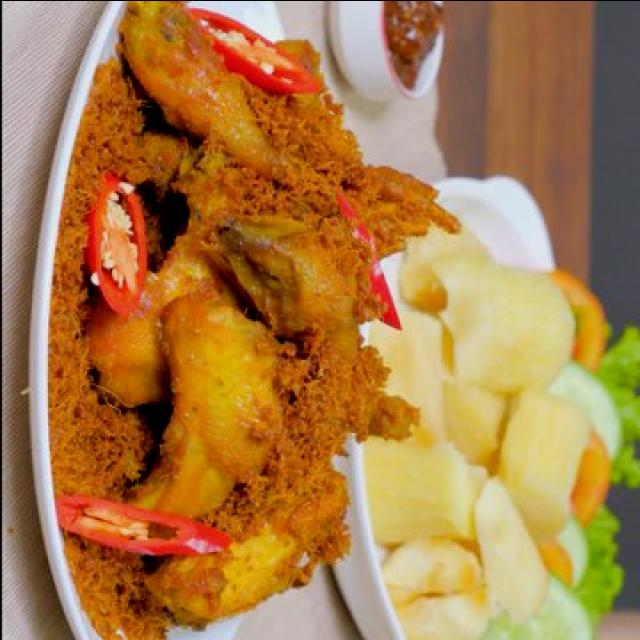ayam goreng: (158, 286, 279, 512)
